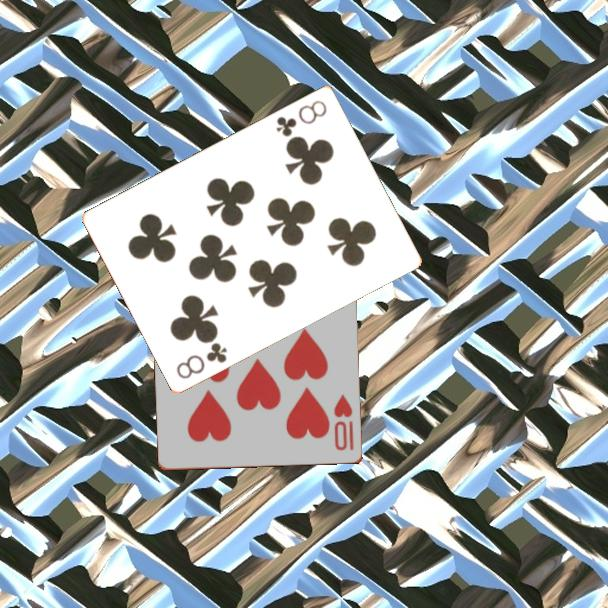c08: (273, 96, 330, 139), (173, 338, 230, 381)
h10: (331, 391, 357, 454)
